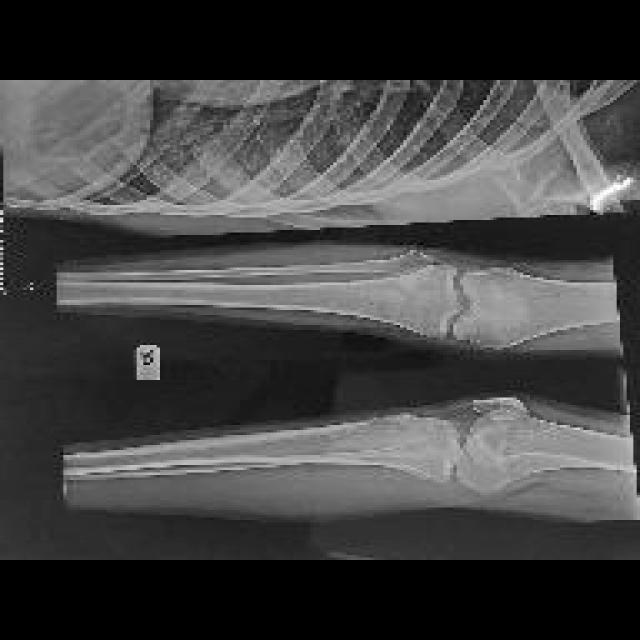bone-cancer: (320, 414, 434, 452)
